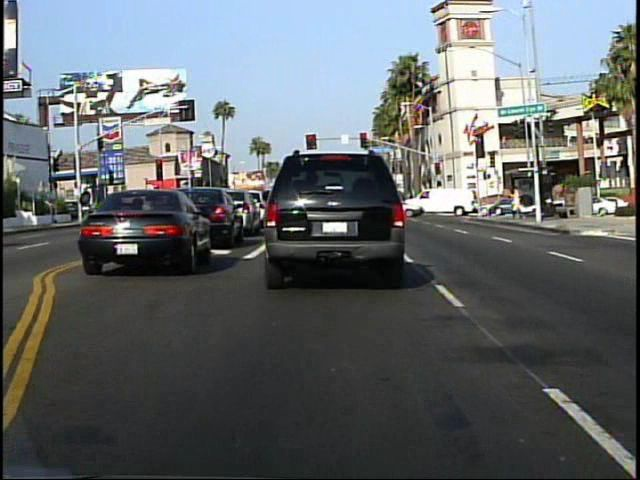person: (507, 183, 525, 224)
